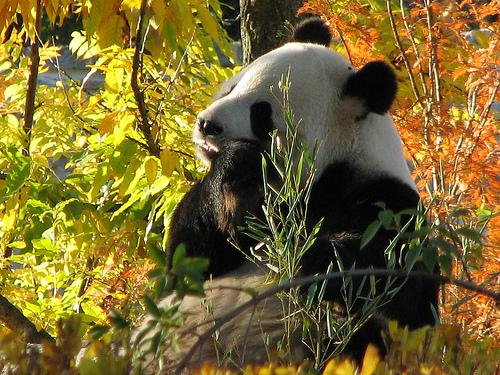panda: (130, 20, 442, 375)
